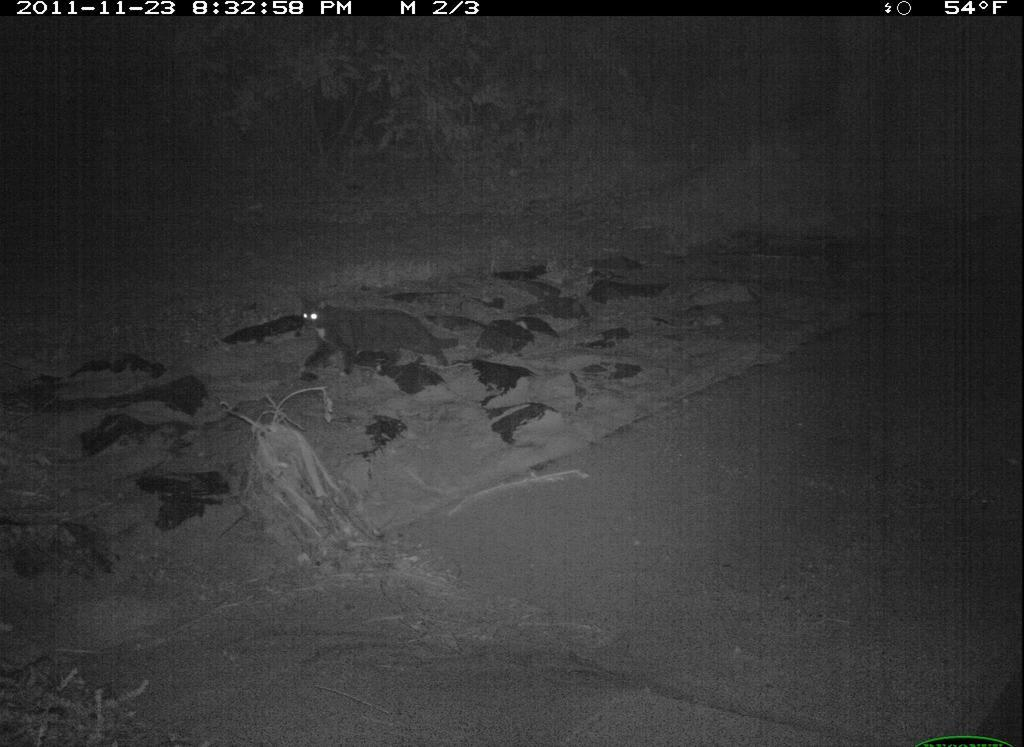cat: (295, 293, 465, 372)
